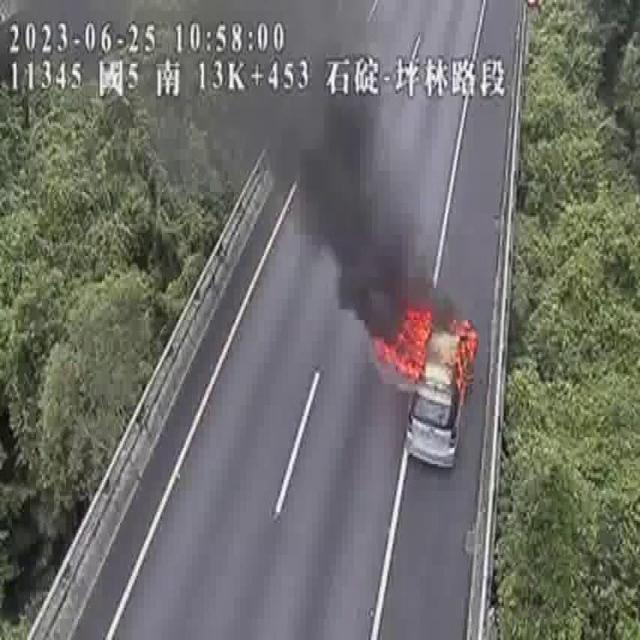Fire: (381, 296, 480, 390)
Smoke: (296, 85, 444, 318)
